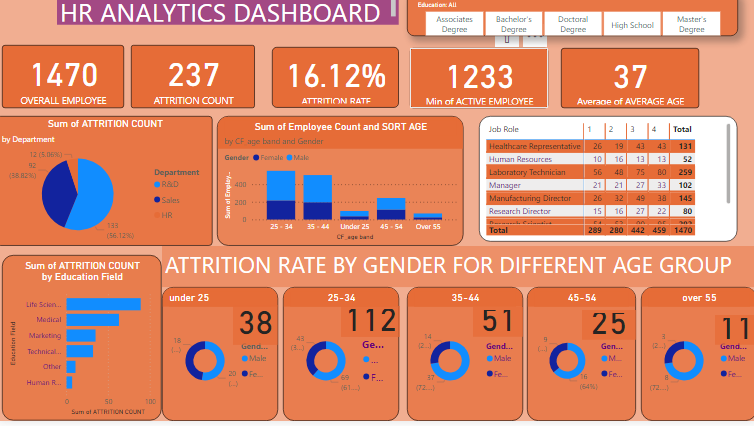

Layout of this report page (visuals, bound fields, positions):
{"tool":"powerbi","page":{"name":"Page 1","canvas":[1280,720],"ordinal":0},"visuals":[{"type":"card","fields":{"Values":["Sum(HR data.Employee Count)"]},"box":[8.4,88.9,204.7,105.7],"z":0},{"type":"card","fields":{"Values":["Sum(HR data.ATTRITION COUNT)"]},"box":[224.8,88.9,208,105.7],"z":1000},{"type":"card","fields":{"Values":["Avg(HR data.ATTRITION RATE)"]},"box":[461.3,92.3,213.1,102.3],"z":2000},{"type":"card","fields":{"Values":["Min(HR data.ACTIVE EMPLOYEE)"]},"box":[694.5,93.9,231.5,100.7],"z":3000},{"type":"card","fields":{"Values":["Avg(HR data.AVERAGE AGE)"]},"box":[947.8,93.9,231.5,100.7],"z":4000},{"type":"pieChart","fields":{"Y":["Sum(HR data.ATTRITION COUNT)"],"Category":["HR data.Department"]},"box":[0,208,362.4,218.1],"z":5000},{"type":"pivotTable","fields":{"Values":["CountNonNull(HR data.Employee Count)"],"Rows":["HR data.Job Role"],"Columns":["HR data.Job Satisfaction"]},"box":[810.3,208,434.5,211.4],"z":6000},{"type":"barChart","fields":{"Category":["HR data.Education Field"],"Y":["Sum(HR data.ATTRITION COUNT)"]},"box":[8.4,441.2,268.4,278.5],"z":7000},{"type":"columnChart","fields":{"Category":["HR data.CF_age band"],"Y":["Sum(HR data.Employee Count)"],"Series":["HR data.Gender"]},"box":[369.1,208,414.4,218.1],"z":8000},{"type":"donutChart","title":"under 25","fields":{"Category":["HR data.Gender"],"Y":["Sum(HR data.ATTRITION COUNT)"],"Series":["HR data.CF_age band"]},"box":[276.8,494.9,194.6,224.8],"z":9000},{"type":"textbox","box":[276.8,426.1,999.8,68.8],"z":10000},{"type":"donutChart","title":"25-34","fields":{"Category":["HR data.Gender"],"Y":["Sum(HR data.ATTRITION COUNT)"],"Series":["HR data.CF_age band"]},"box":[479.8,494.9,194.6,224.8],"z":11000},{"type":"donutChart","title":"35-44","fields":{"Category":["HR data.Gender"],"Y":["Sum(HR data.ATTRITION COUNT)"],"Series":["HR data.CF_age band"]},"box":[689.5,494.9,194.6,224.8],"z":12000},{"type":"donutChart","title":"over 55","fields":{"Category":["HR data.Gender"],"Y":["Sum(HR data.ATTRITION COUNT)"],"Series":["HR data.CF_age band"]},"box":[1082,494.9,194.6,224.8],"z":13000},{"type":"donutChart","title":"45-54","fields":{"Category":["HR data.Gender"],"Y":["Sum(HR data.ATTRITION COUNT)"],"Series":["HR data.CF_age band"]},"box":[890.8,494.9,182.9,224.8],"z":14000},{"type":"card","title":"under 25","fields":{"Values":["Sum(HR data.ATTRITION COUNT)"]},"box":[395.9,525.1,75.5,67.1],"z":15000},{"type":"card","title":"25-34","fields":{"Values":["Sum(HR data.ATTRITION COUNT)"]},"box":[577.1,526.8,99,52],"z":16000},{"type":"card","title":"35-44","fields":{"Values":["Sum(HR data.ATTRITION COUNT)"]},"box":[800.2,528.4,83.9,50.3],"z":17000},{"type":"card","title":"45-54","fields":{"Values":["Sum(HR data.ATTRITION COUNT)"]},"box":[983.1,533.5,90.6,50.3],"z":18000},{"type":"card","title":"over 55","fields":{"Values":["Sum(HR data.ATTRITION COUNT)"]},"box":[1206.2,541.9,70.5,50.3],"z":19000},{"type":"textbox","box":[100.7,0,573.7,55.4],"z":20000},{"type":"slicer","fields":{"Values":["HR data.Education"]},"box":[688.7,0,556,73.9],"z":21000}]}

Visuals, with their boxes in screenshot pixels (x1, y1, x2, y2), scaled from the page's 1280x720 canvas onto the 754x426 screenshot:
card - Sum(HR data.Employee Count): left=5, top=53, right=126, bottom=115
card - Sum(HR data.ATTRITION COUNT): left=132, top=53, right=255, bottom=115
card - Avg(HR data.ATTRITION RATE): left=272, top=55, right=397, bottom=115
card - Min(HR data.ACTIVE EMPLOYEE): left=409, top=56, right=545, bottom=115
card - Avg(HR data.AVERAGE AGE): left=558, top=56, right=695, bottom=115
pieChart - Sum(HR data.ATTRITION COUNT) x HR data.Department: left=0, top=123, right=213, bottom=252
pivotTable - CountNonNull(HR data.Employee Count) x HR data.Job Role: left=477, top=123, right=733, bottom=248
barChart - HR data.Education Field x Sum(HR data.ATTRITION COUNT): left=5, top=261, right=163, bottom=425
columnChart - HR data.CF_age band x Sum(HR data.Employee Count): left=217, top=123, right=462, bottom=252
"under 25" donutChart: left=163, top=293, right=278, bottom=425
textbox: left=163, top=252, right=752, bottom=293
"25-34" donutChart: left=283, top=293, right=397, bottom=425
"35-44" donutChart: left=406, top=293, right=521, bottom=425
"over 55" donutChart: left=637, top=293, right=752, bottom=425
"45-54" donutChart: left=525, top=293, right=632, bottom=425
"under 25" card: left=233, top=311, right=278, bottom=350
"25-34" card: left=340, top=312, right=398, bottom=342
"35-44" card: left=471, top=313, right=521, bottom=342
"45-54" card: left=579, top=316, right=632, bottom=345
"over 55" card: left=711, top=321, right=752, bottom=350
textbox: left=59, top=0, right=397, bottom=33
slicer - HR data.Education: left=406, top=0, right=733, bottom=44
